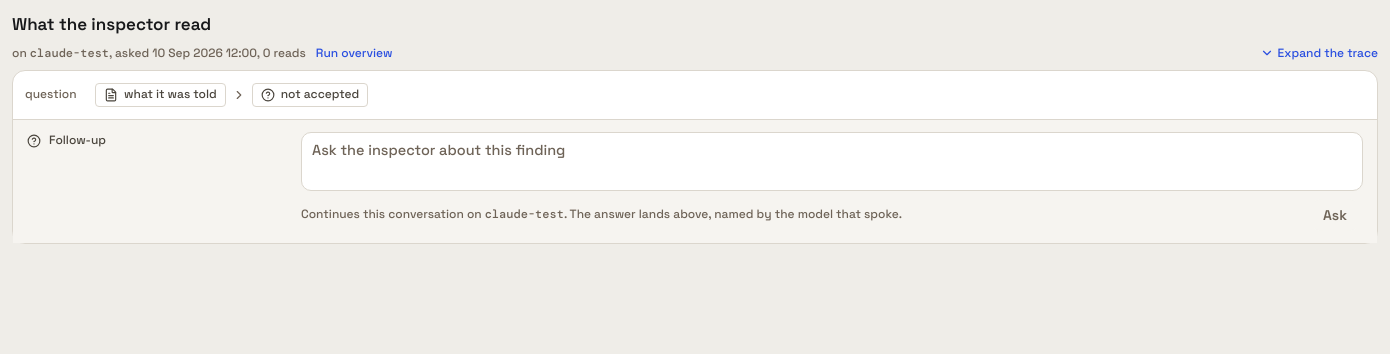
Test case: Trace › reads a refusal to decide as one reason
What coordinates should you click on to do the following:
click the button "Expand the trace"
I would click on:
 (1319, 53)
Its box is x1=1260 y1=45 x2=1378 y2=62.
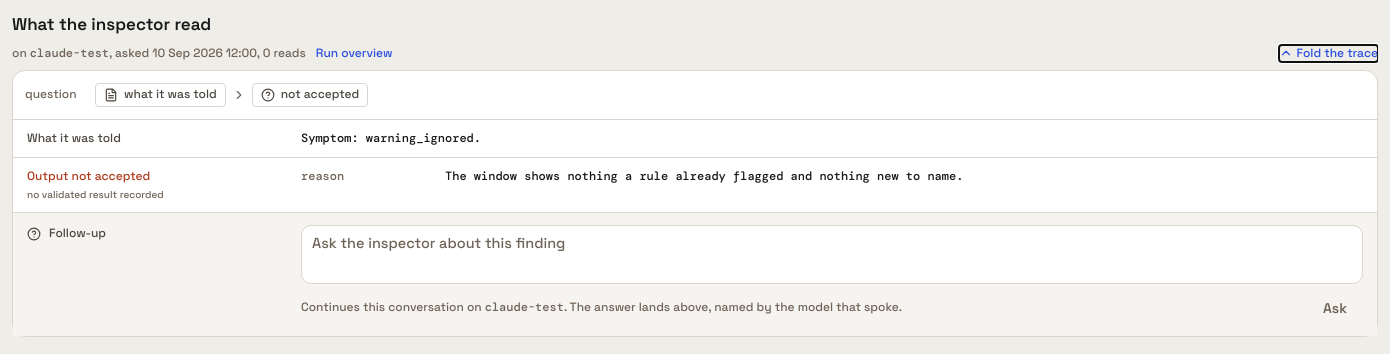
expect the text "reason" is shown: met, box x1=301 y1=168 x2=344 y2=184
expect the text "The window shows nothing a rule already flagged and nothing new to name." is shown: met, box x1=445 y1=168 x2=963 y2=184
